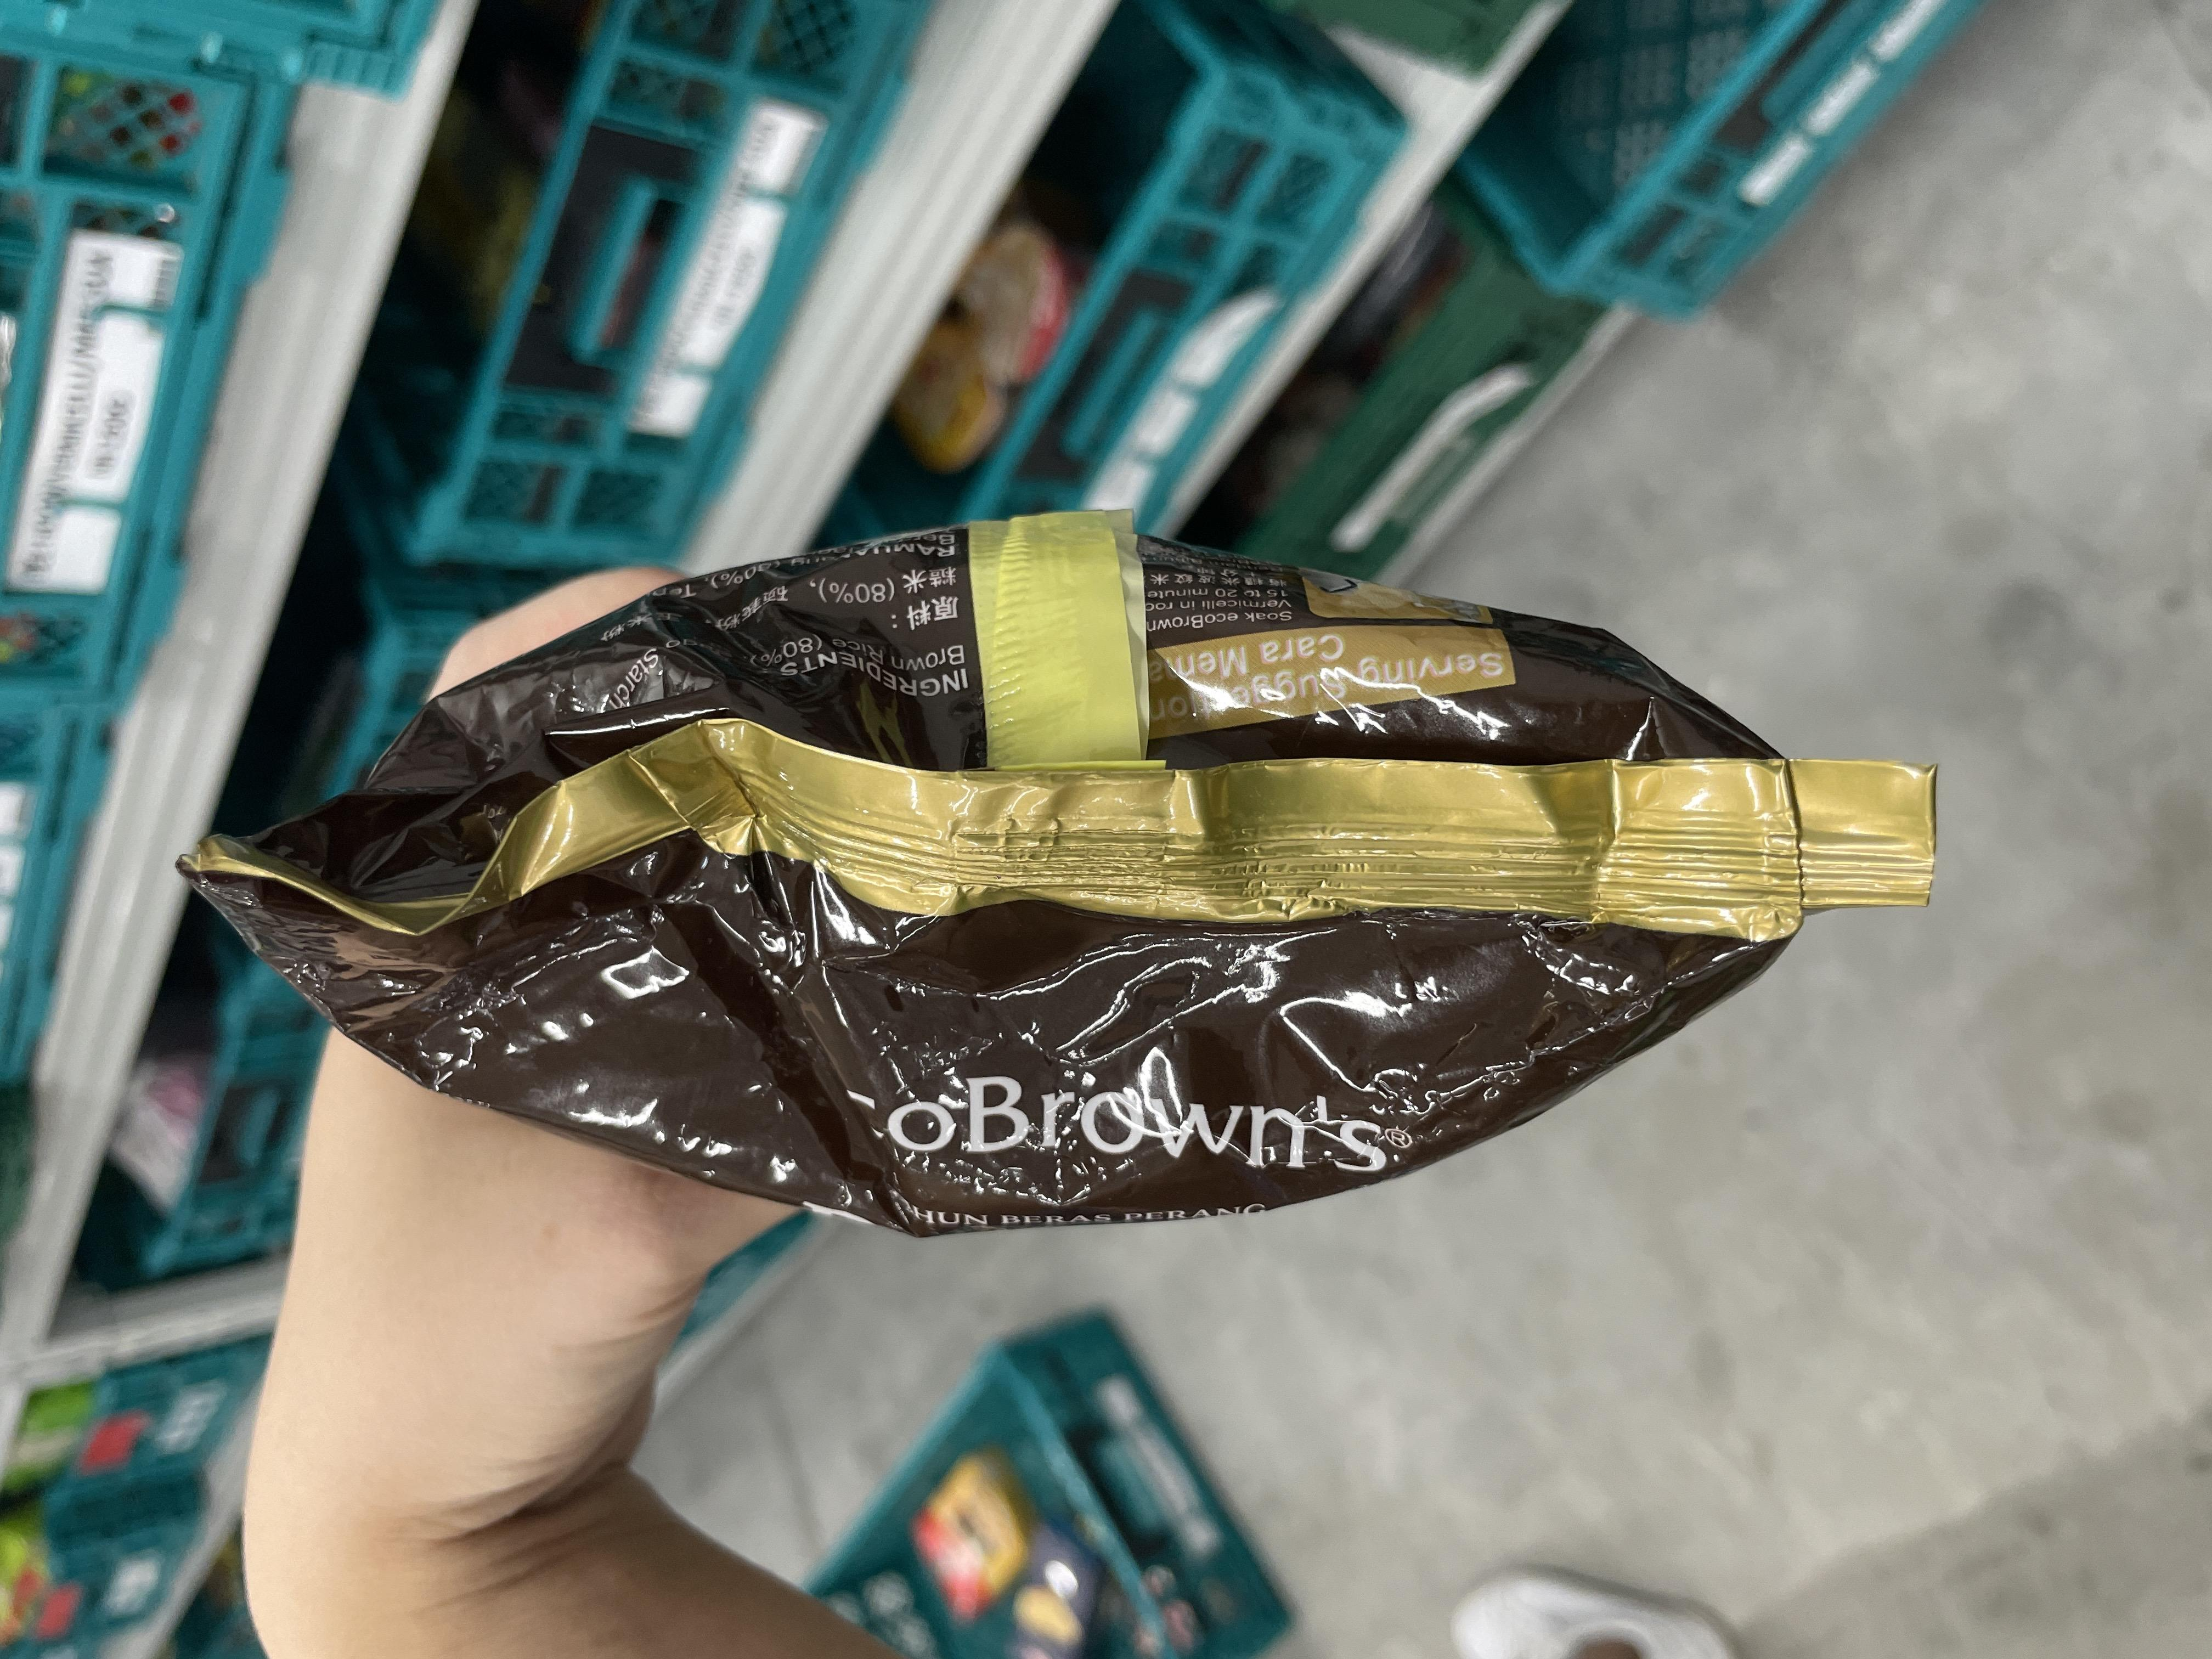object_name: (549, 340, 1059, 1659)
